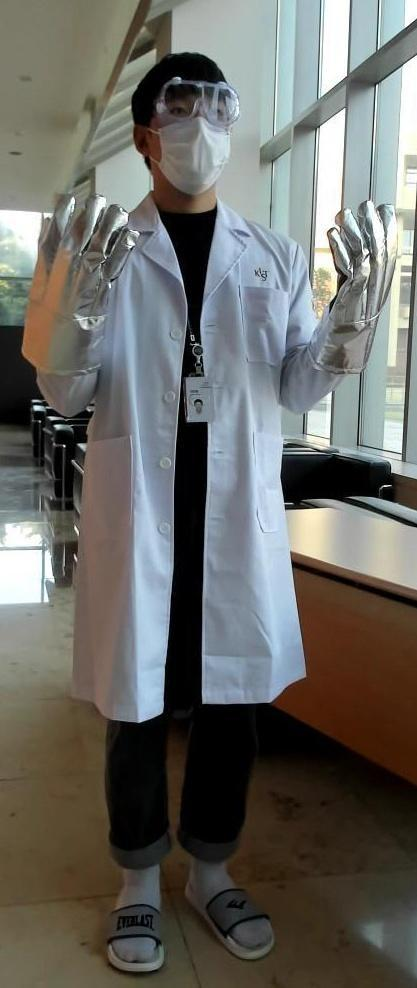lab_coat: (97, 264, 308, 709)
